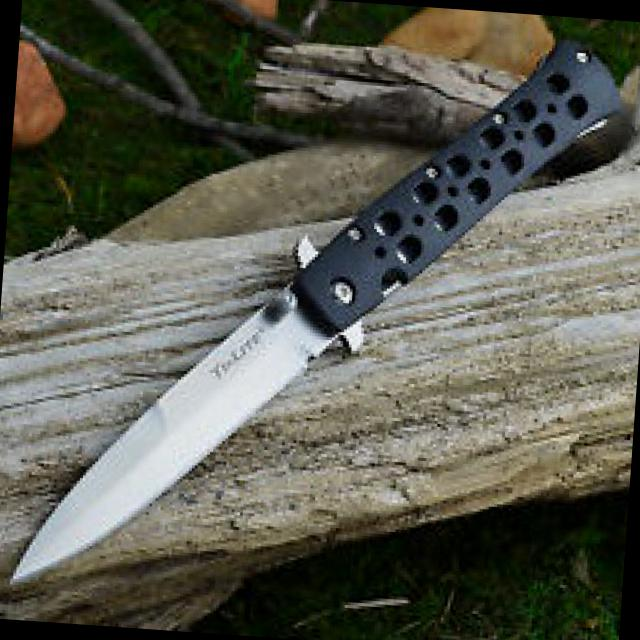knife: (1, 251, 333, 614)
